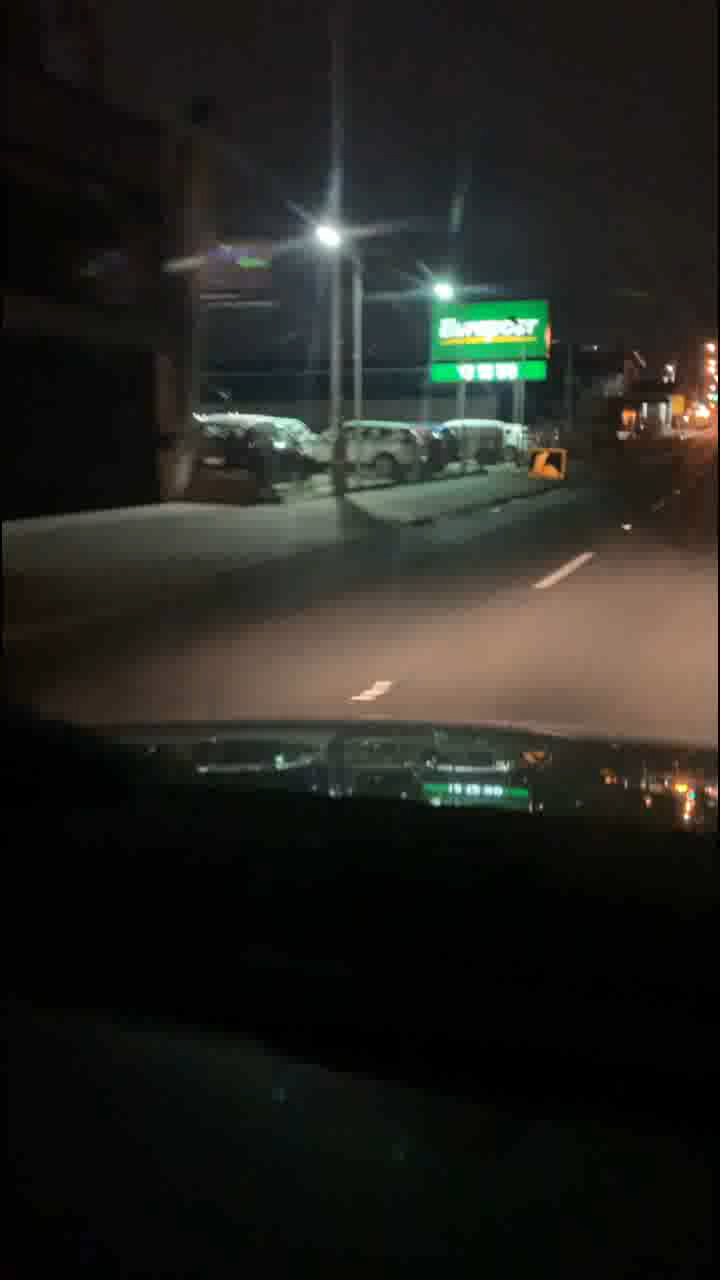road works sign board: (530, 450, 565, 478)
